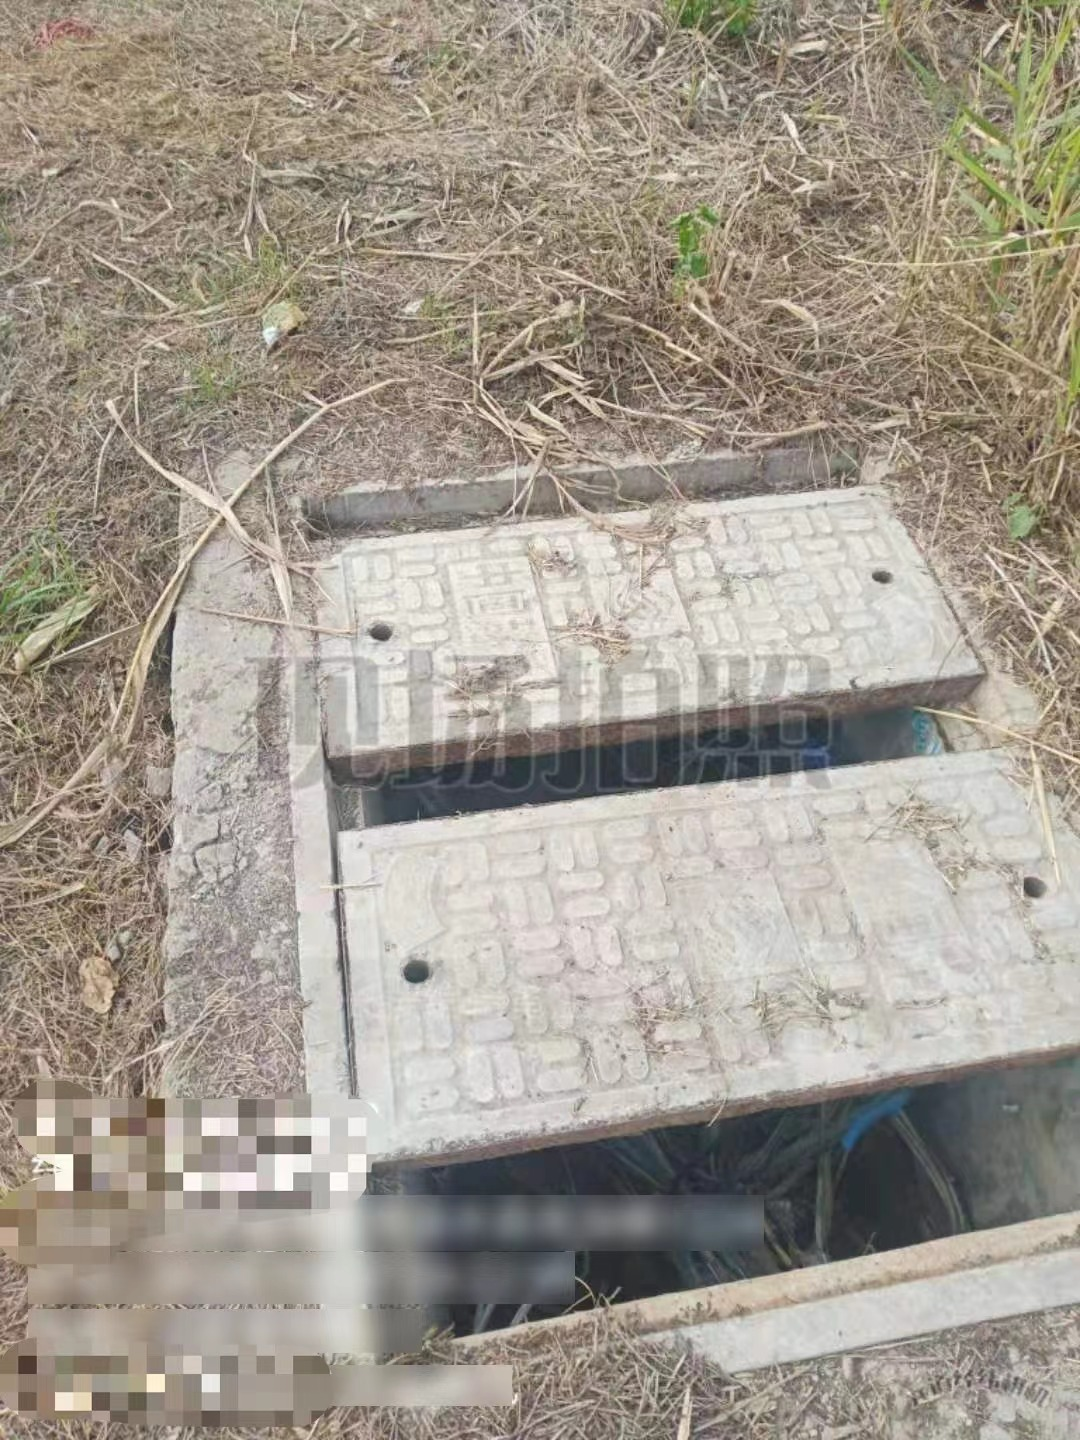well: (276, 466, 1075, 1379)
